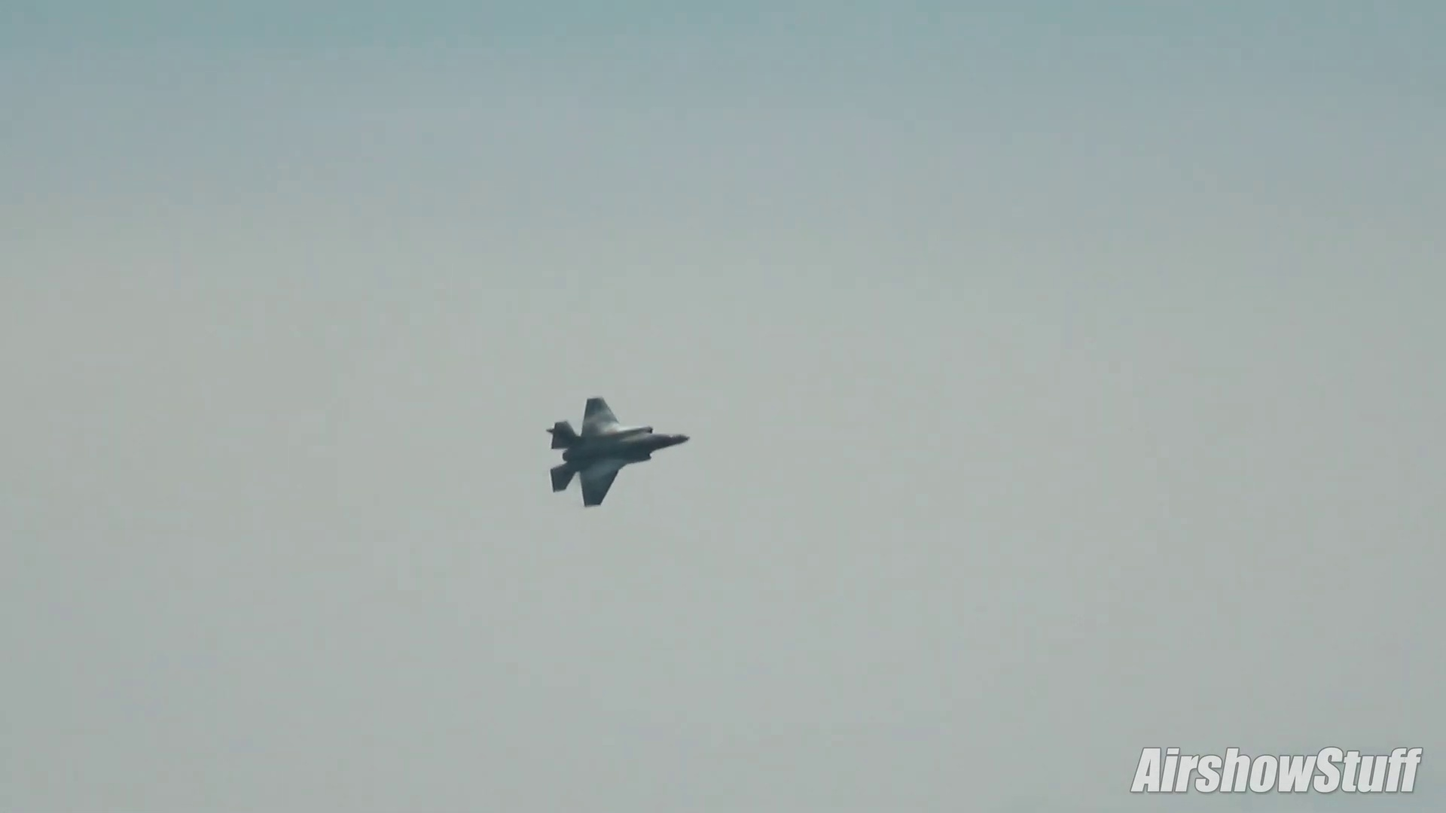F35: (535, 388, 700, 526)
